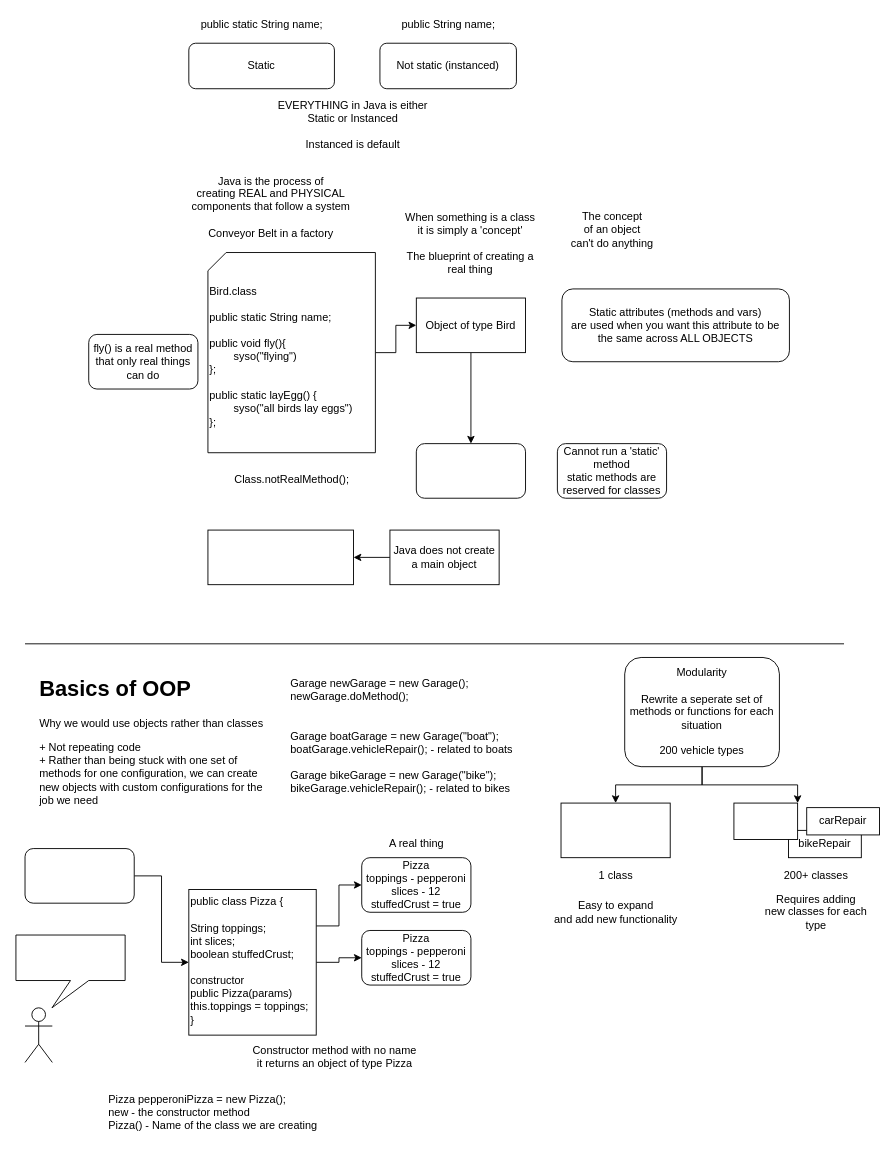
Some shapes in this 895 by 1150 pixel diagram are drawn without their labels. The shapes that lost their labels are listed below. From the top down, each one's centre as x and y in pixels, then its label:
At point 470,470: "fly() can be done by a real object".
At point 280,557: "The Main method is static public static void main(String[] args)".
At point 615,830: "vehicleRepair(type of Vehicle)".
At point 765,820: "boatRepair".
At point 79,875: "This is a recipe for a pizza".
At point 70,971: "hey, can I get a 12 slices, pepperoni with stuffed crust pls".
At point 38,1034: "Actor".
